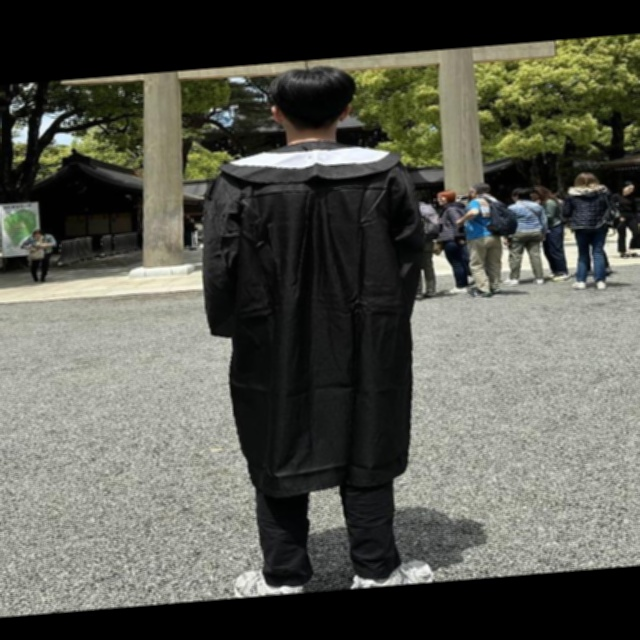Sin_Casco_Mascarrilla: (262, 62, 360, 138)
Sin_Chaleco: (191, 128, 435, 446)
